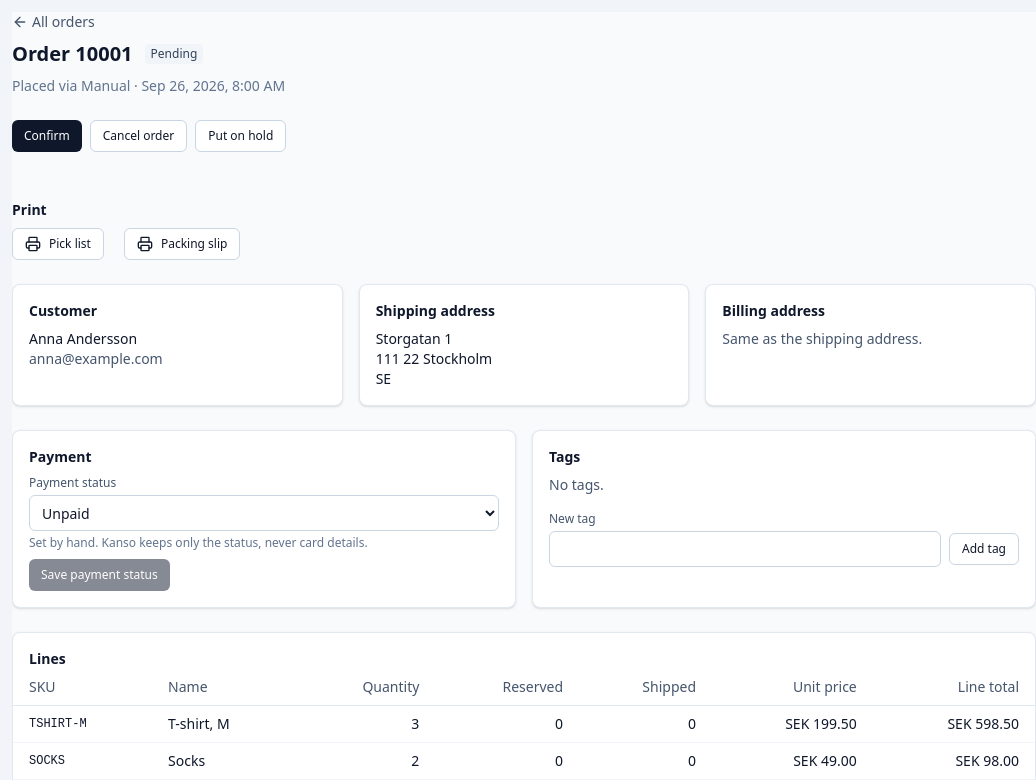
Test case: the order detail › sets the payment status with the version it was shown at
Check: the text "never card details" is shown, box [29,534,368,551]
Check: the button "Save payment status" is disabled, box [29,559,170,591]
Select "Authorized" in the dropdown labelled "Payment status": (264, 513) [29,495,499,531]
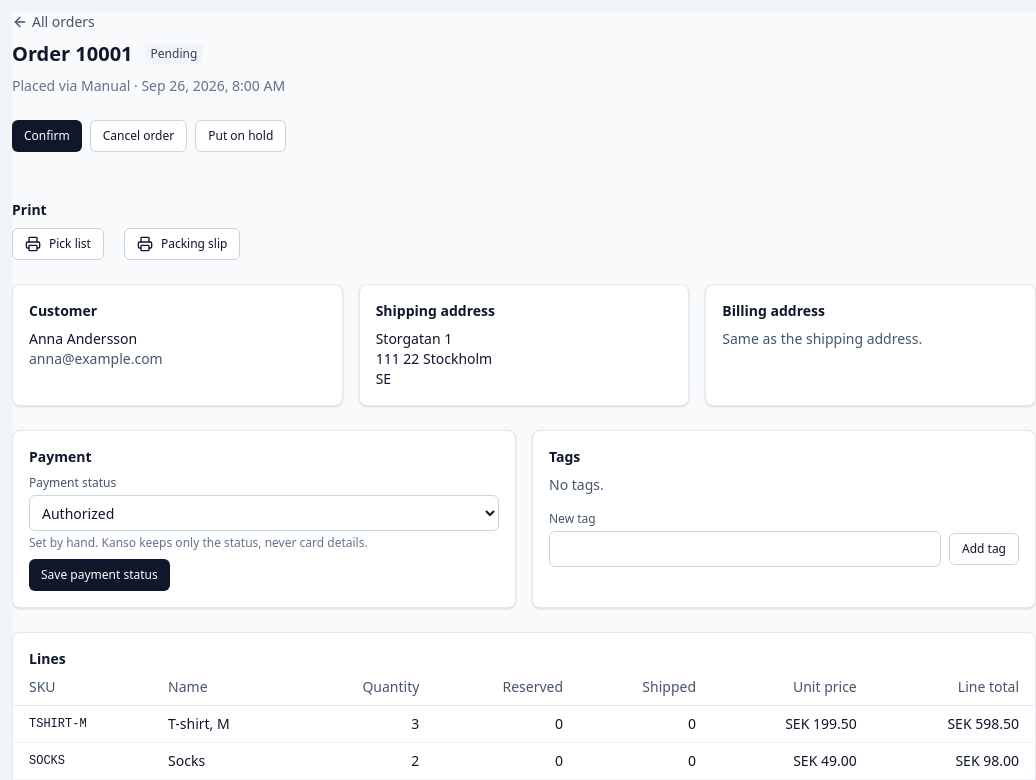
Click the button "Save payment status": (99, 575) [29,559,170,591]
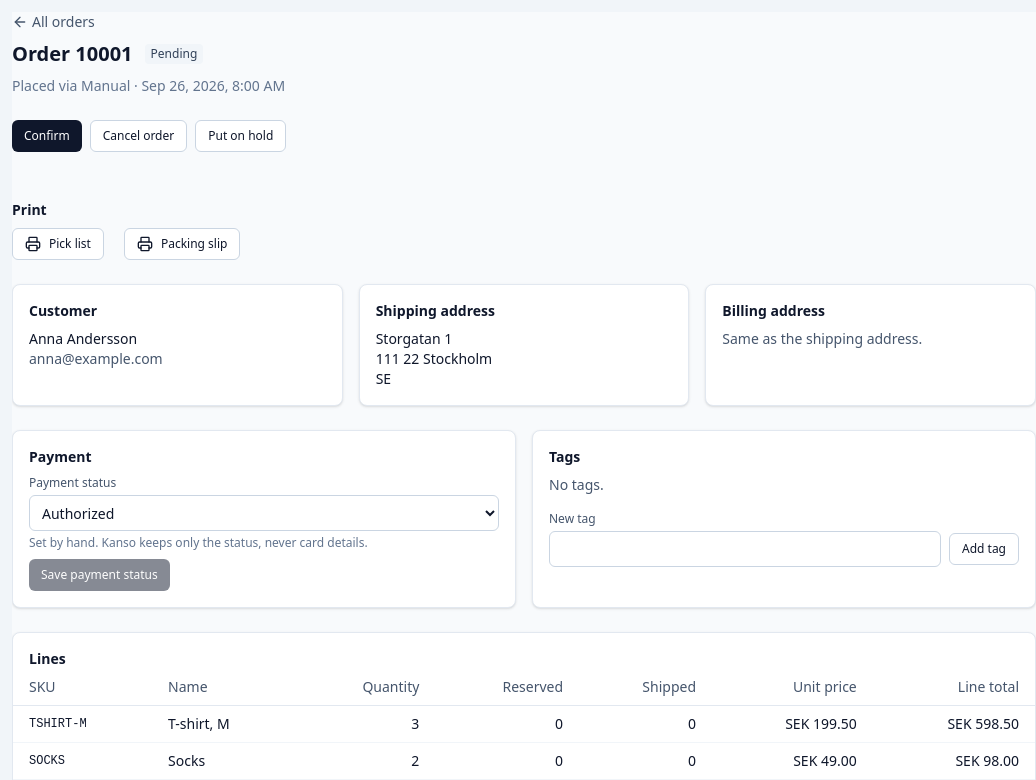
Check: the button "Save payment status" is disabled, box [29,559,170,591]
